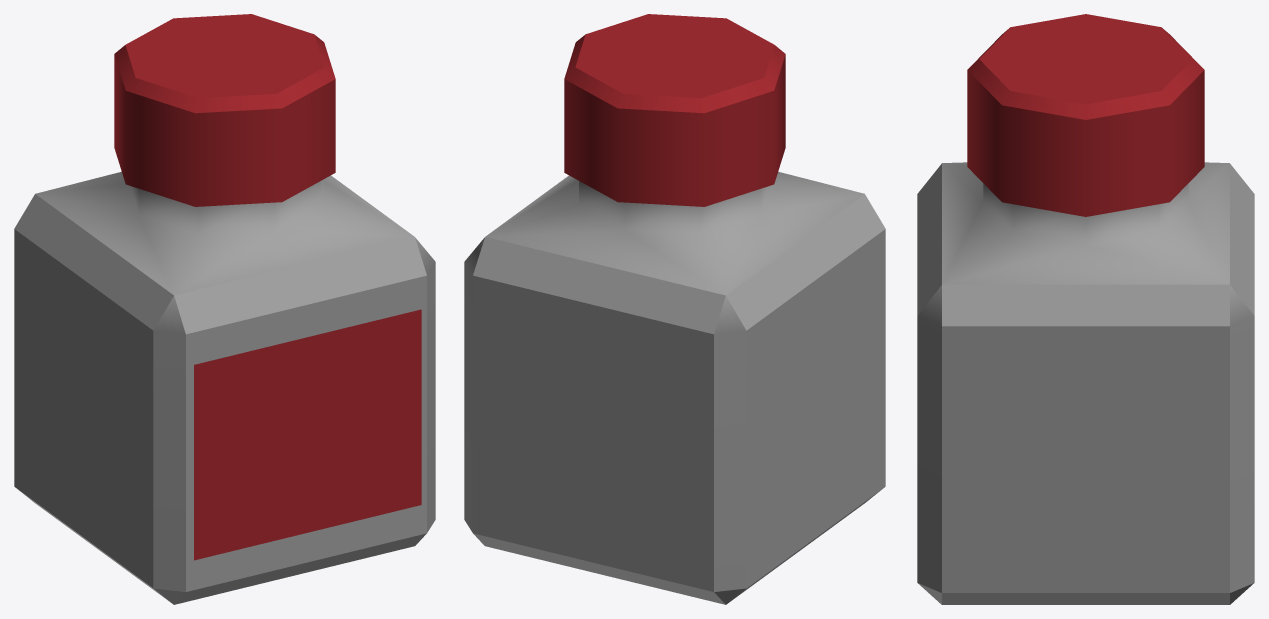
The model's file is Pill Bottle 01.fbx.
3 renders of one model, left to right at view 1: azimuth 30°, elevation 25°; view 2: azimuth 150°, elevation 25°; view 3: azimuth 270°, elevation 25°, orthographic. The views are drawn at different scales.
Visible parts, largest first — view 1: Pill_Bottle_01; view 2: Pill_Bottle_01; view 3: Pill_Bottle_01.
Boxes of the visible parts, left/top/right/bottom form: Pill_Bottle_01: left=14, top=14, right=435, bottom=604; Pill_Bottle_01: left=464, top=14, right=885, bottom=604; Pill_Bottle_01: left=917, top=14, right=1254, bottom=604.
Size of the model in its own units: 17.06 by 27.06 by 17.21.
